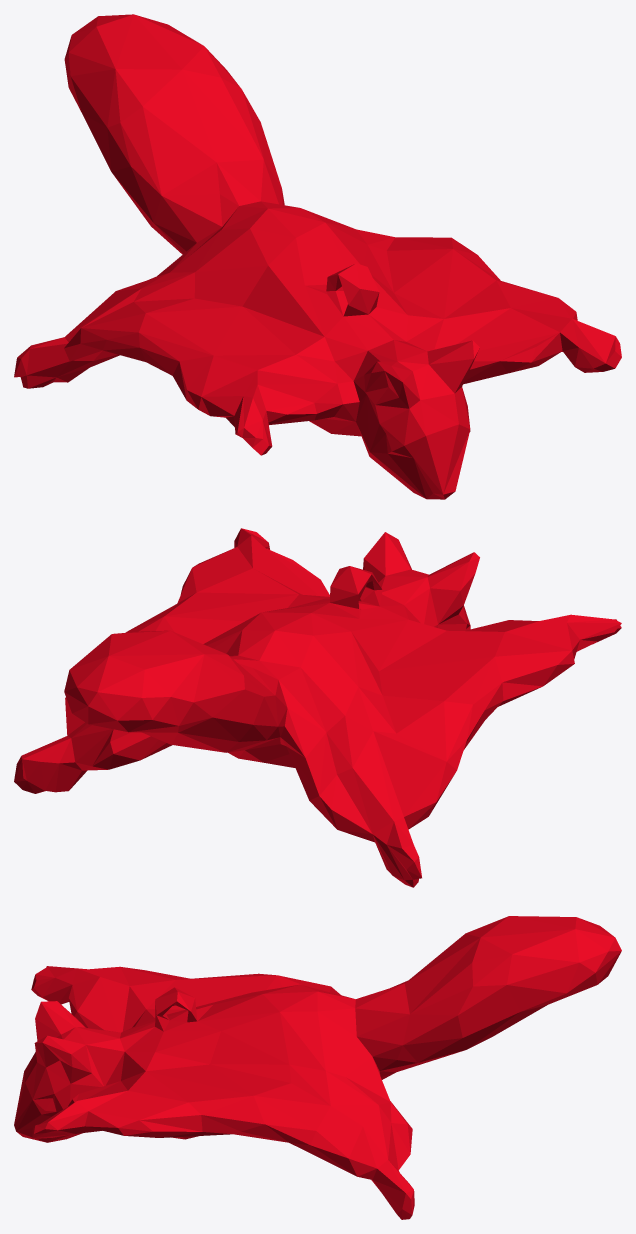
The model's file is Squirrel.fbx.
3 views of the same model, one above another, from view 1: azimuth 30°, elevation 25°; view 2: azimuth 150°, elevation 25°; view 3: azimuth 270°, elevation 25° (orthographic). The views are drawn at different scales.
Visible parts, largest first — view 1: Flying_Squirrel_Ornament; view 2: Flying_Squirrel_Ornament; view 3: Flying_Squirrel_Ornament.
Boxes of the visible parts, <box> form: Flying_Squirrel_Ornament: <box>14,14,621,499</box>; Flying_Squirrel_Ornament: <box>14,528,621,887</box>; Flying_Squirrel_Ornament: <box>14,916,621,1219</box>.
Bounding box in the file's own units: 2611 × 1559 × 3945.
